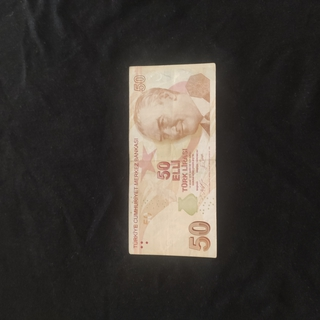50TLFront: (128, 62, 217, 258)
